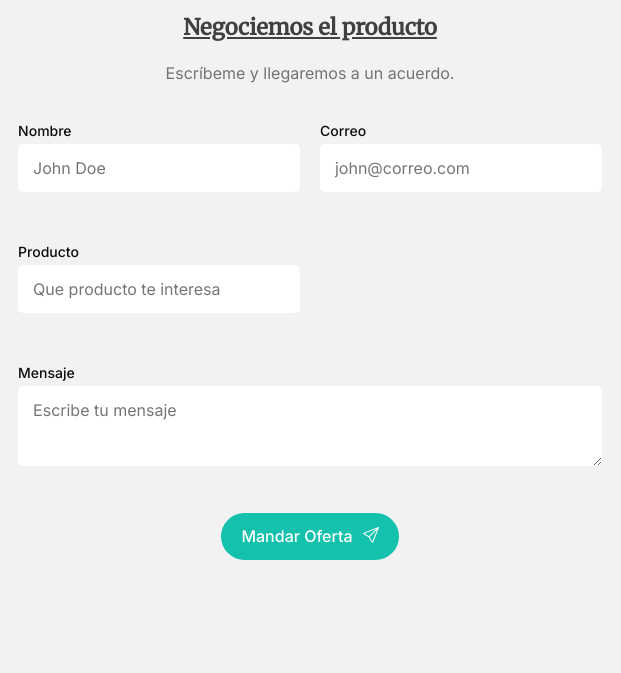
Contacto - Pruebas Funcionales › muestra error cuando el correo es inválido
Type "Juan Perez" into the field labelled "Nombre". click: (159, 168)
box: top-left (18, 144), bottom-right (300, 192)
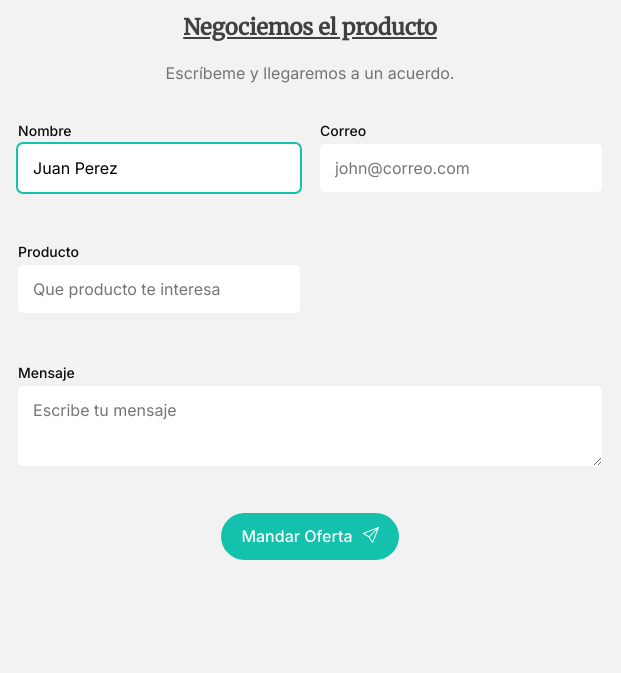
Type "correo-invalido" into the field labelled "Correo". click: (461, 168)
box: top-left (320, 144), bottom-right (602, 192)
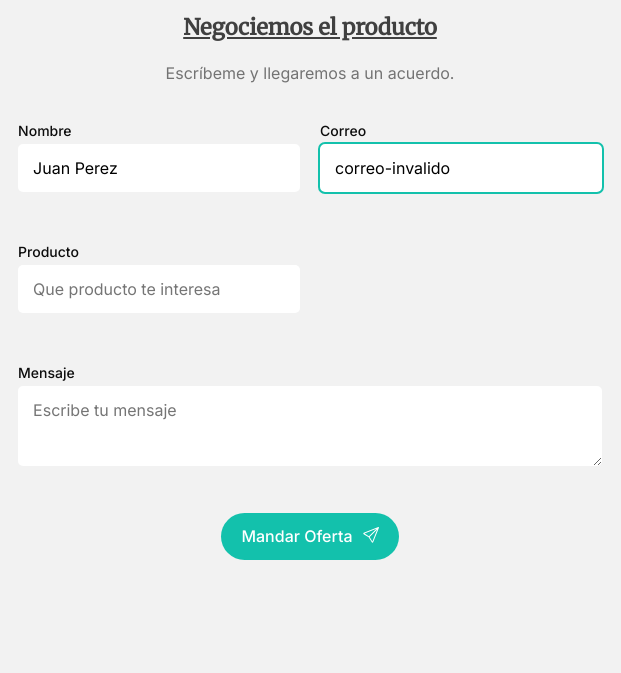
Click the button "Mandar Oferta". click: (310, 536)
box: top-left (221, 513), bottom-right (398, 560)
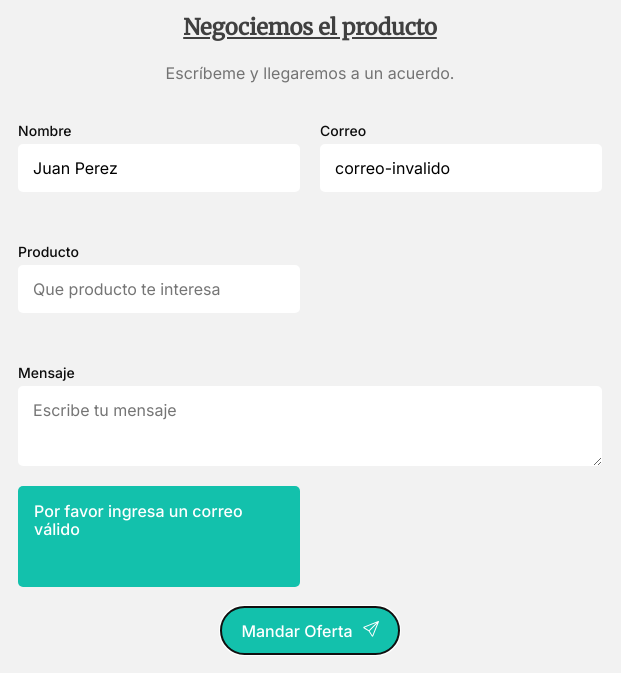
Result: the text "Por favor ingresa un correo válido" is shown at top-left (34, 501), bottom-right (243, 539)
